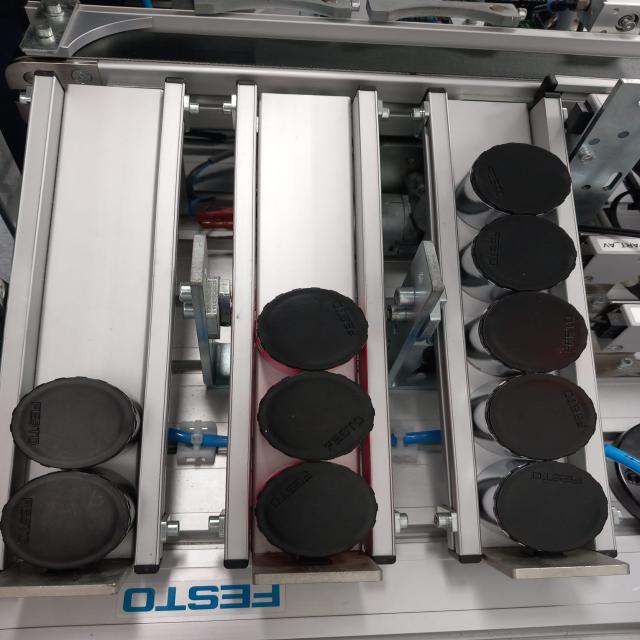Workpiece: (0, 465, 146, 586), (245, 474, 402, 576), (5, 356, 140, 467), (256, 369, 394, 474), (249, 273, 380, 373), (444, 128, 579, 218), (498, 464, 614, 568), (457, 212, 592, 294), (478, 374, 602, 459), (473, 296, 598, 376)
